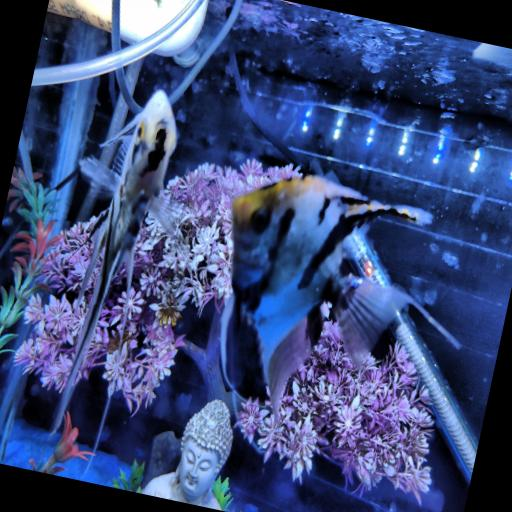Fish: (229, 175, 456, 412), (51, 90, 175, 431)
